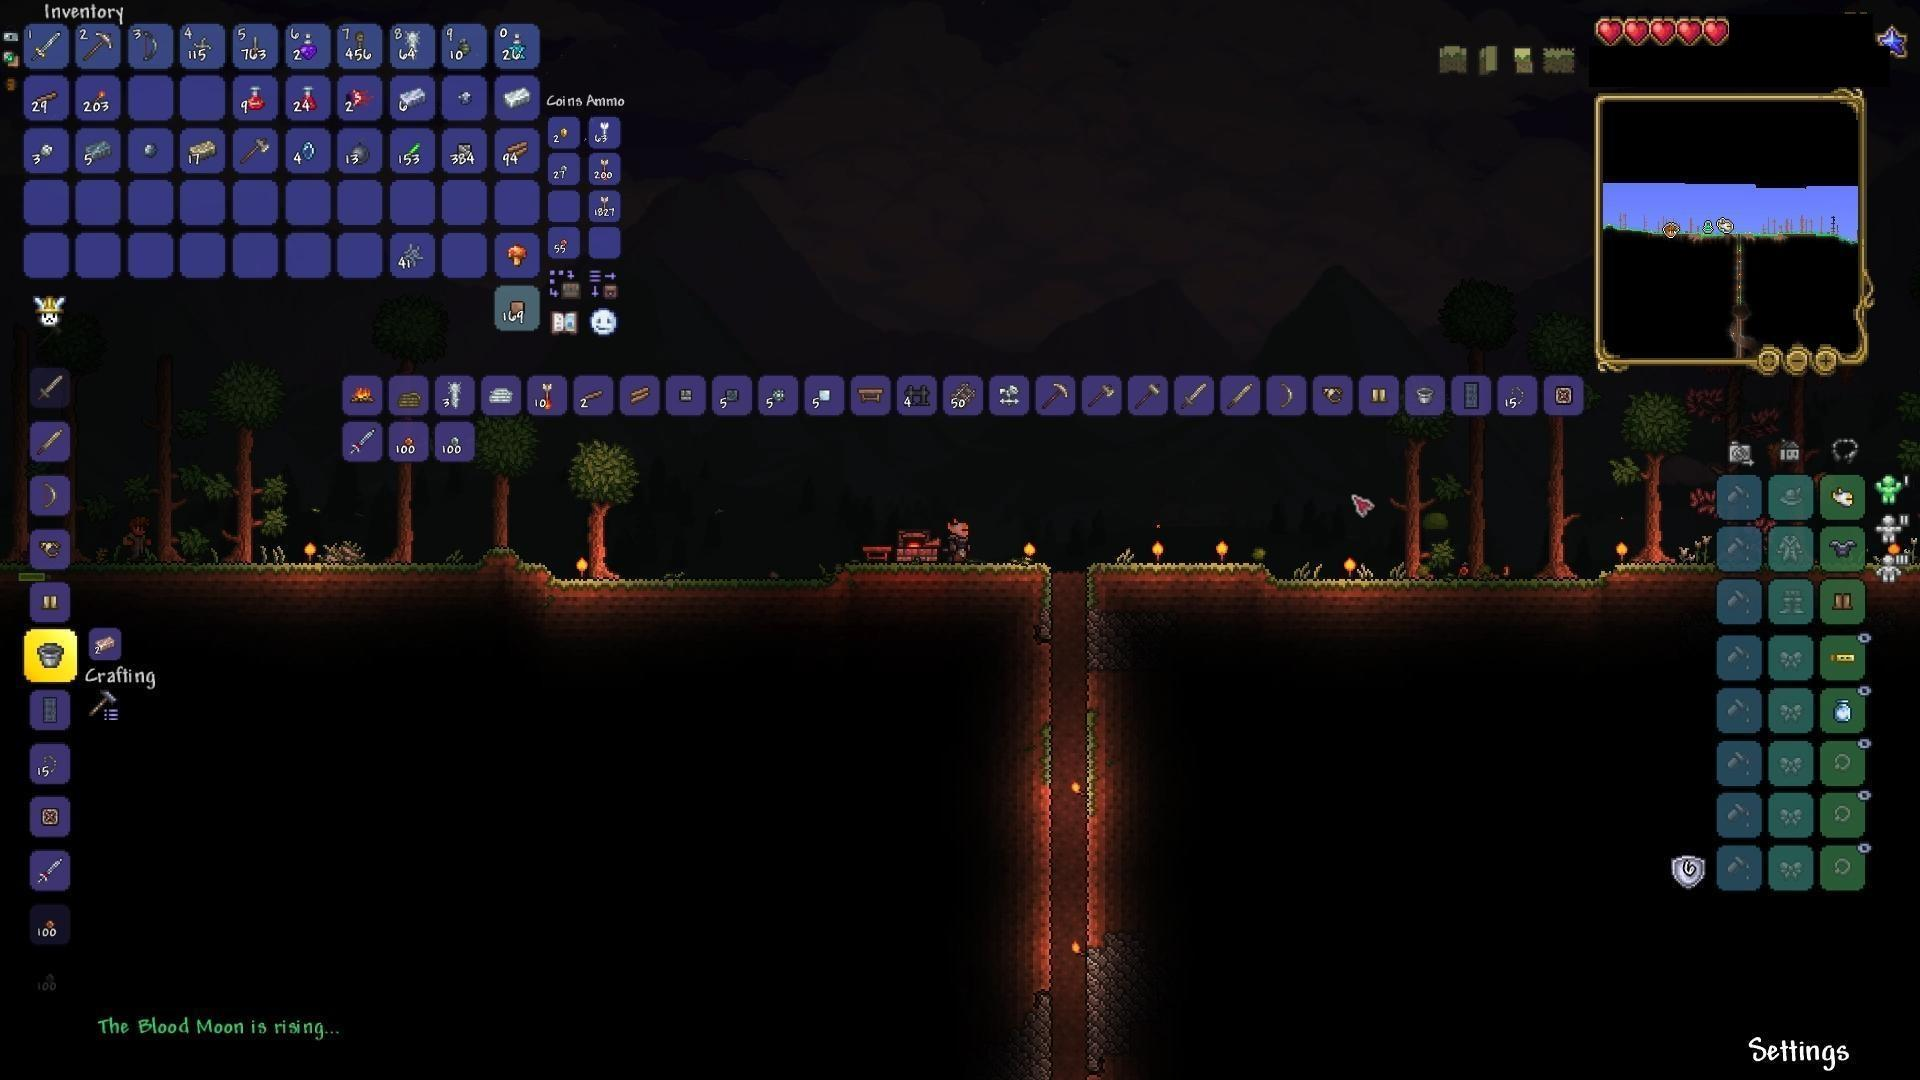dirt: (117, 550, 1050, 592), (1083, 554, 1716, 596), (1021, 637, 1065, 998), (1085, 661, 1120, 952)
heart: (1702, 17, 1733, 51), (1593, 16, 1626, 46), (1676, 15, 1704, 50), (1650, 16, 1676, 49), (1625, 15, 1651, 44)
stone: (1035, 990, 1060, 1079), (1085, 948, 1102, 1072)
tree: (211, 352, 264, 560), (572, 435, 625, 575)
